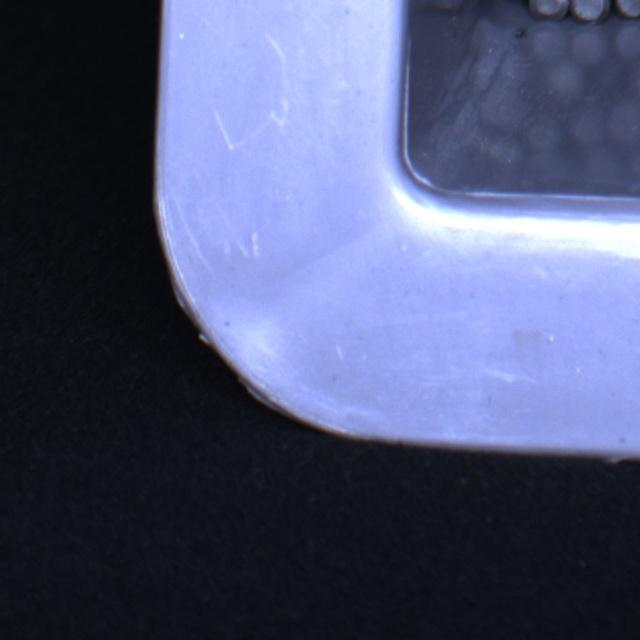tool: (526, 0, 570, 20), (571, 0, 612, 20), (607, 0, 640, 18)
